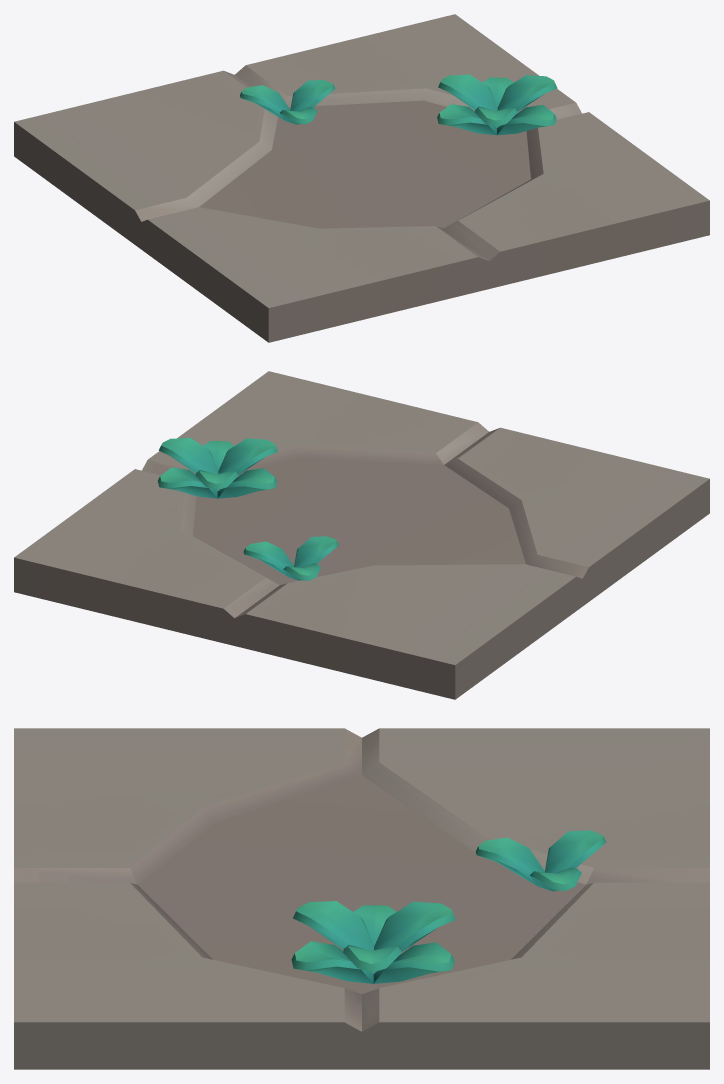
File: kaykit-dungeon-remastered-floor-tile-small-weeds-b-gltf.glb
3 views of the same model, one above another, from view 1: azimuth 30°, elevation 25°; view 2: azimuth 150°, elevation 25°; view 3: azimuth 270°, elevation 25° (orthographic). The views are drawn at different scales.
Visible parts, largest first — view 1: floor_tile_small_weeds_B; view 2: floor_tile_small_weeds_B; view 3: floor_tile_small_weeds_B.
Boxes of the visible parts, <box> form: floor_tile_small_weeds_B: <box>14,14,709,342</box>; floor_tile_small_weeds_B: <box>14,371,709,699</box>; floor_tile_small_weeds_B: <box>14,728,709,1069</box>.
Size of the model in its own units: 2 by 0.2954 by 2.
1 material, 1 textured.
